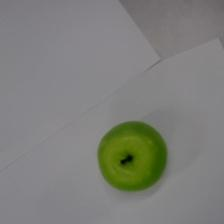green: (98, 121, 168, 191)
